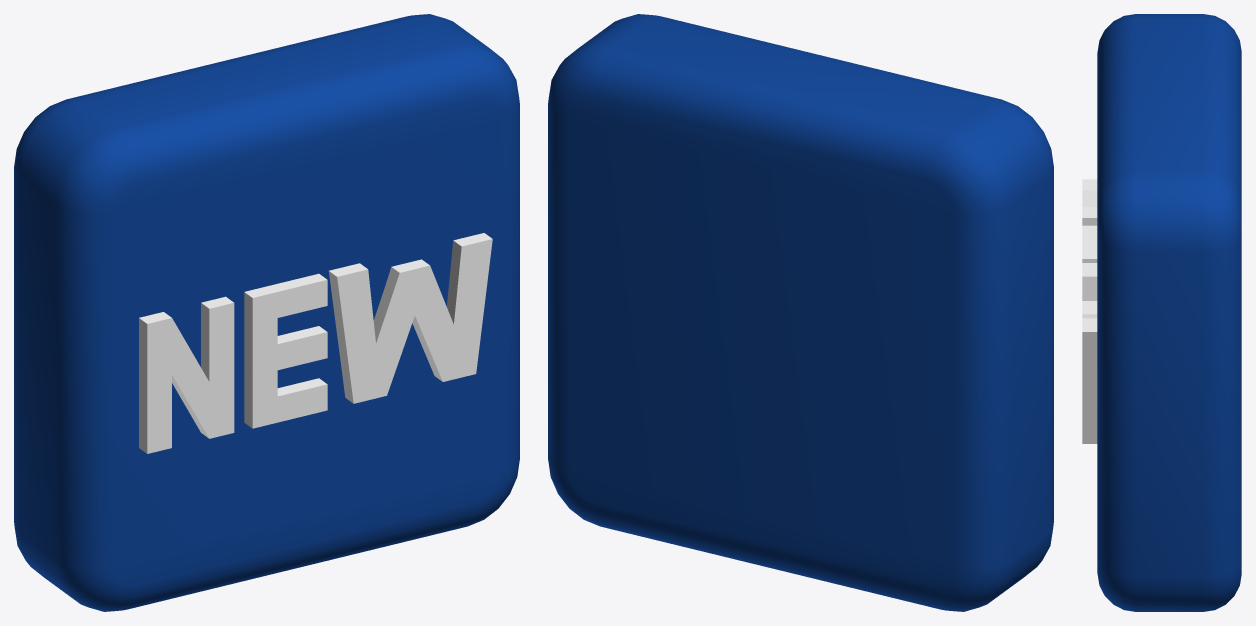
The model's file is new_button.gltf.
The picture shows the model from 3 angles, left to right: view 1: azimuth 30°, elevation 25°; view 2: azimuth 150°, elevation 25°; view 3: azimuth 270°, elevation 25°; orthographic projection. The views are drawn at different scales.
Parts seen in each view (by area): view 1: Cube.6639, Cube.6638; view 2: Cube.6639; view 3: Cube.6639, Cube.6638.
Boxes of the visible parts, box(x1,y1,x2,y2) form: Cube.6639: box(14, 14, 519, 611); Cube.6638: box(139, 233, 492, 453); Cube.6639: box(548, 14, 1053, 611); Cube.6639: box(1097, 14, 1241, 611); Cube.6638: box(1082, 179, 1097, 443).
Bounding box in the file's own units: 2.2 × 2.2 × 0.73.
1 material, 1 textured.
